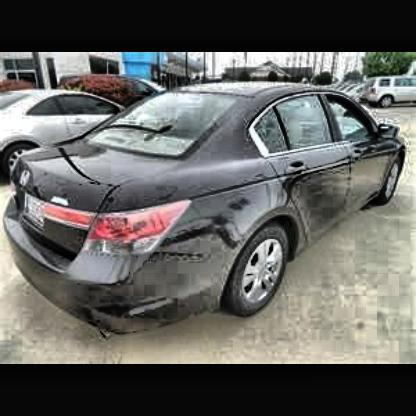Honda Accord Sedan 2012: (5, 87, 409, 349)
